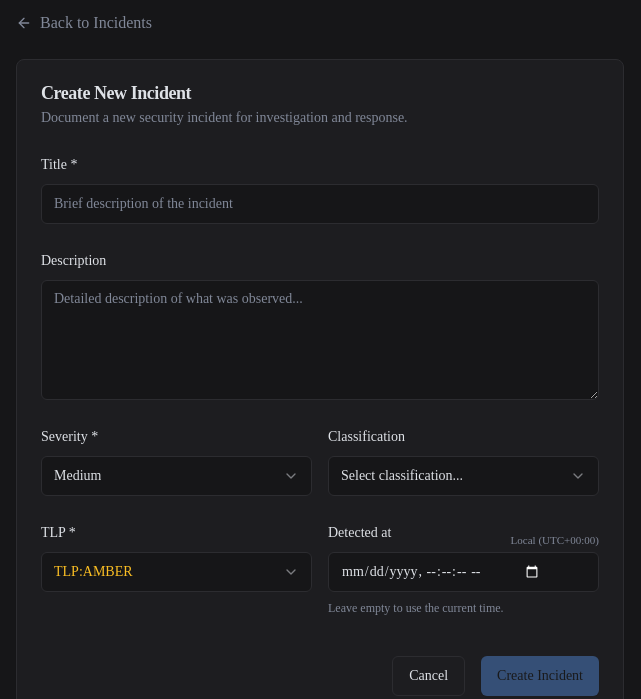
Test case: new incident form › rejects a detected time in the future
Type "Future incident" into the field labelled "Title *" at (320, 204), box [41,184,599,224]
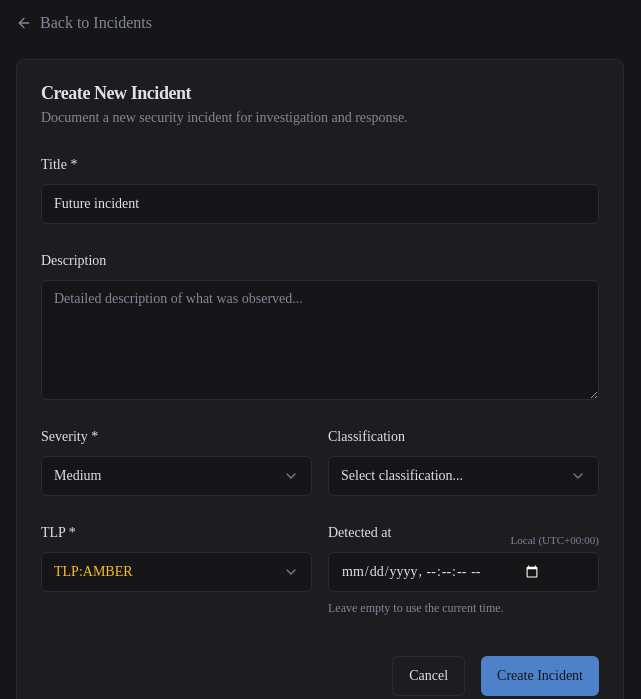
Type "2099-01-01T00:00:00" into the field labelled "Detected at" at (464, 572), box [328,552,599,592]
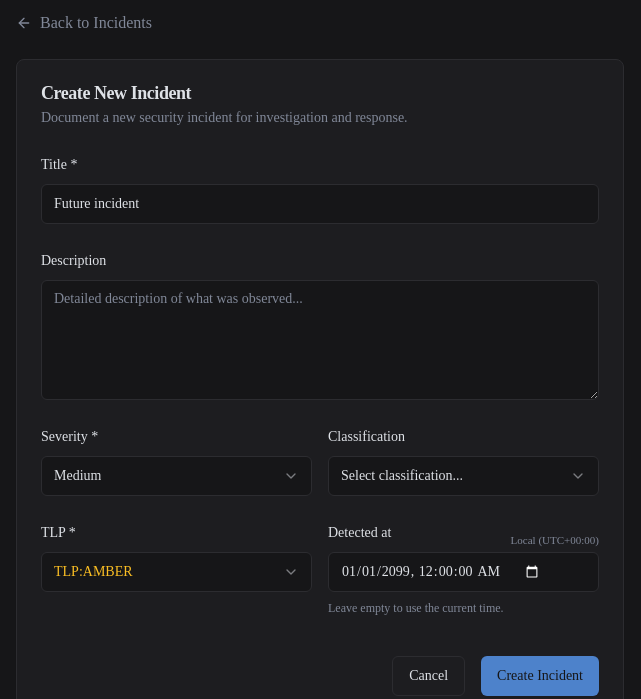
Click the button "Create Incident" at (540, 676), box [481,656,599,696]
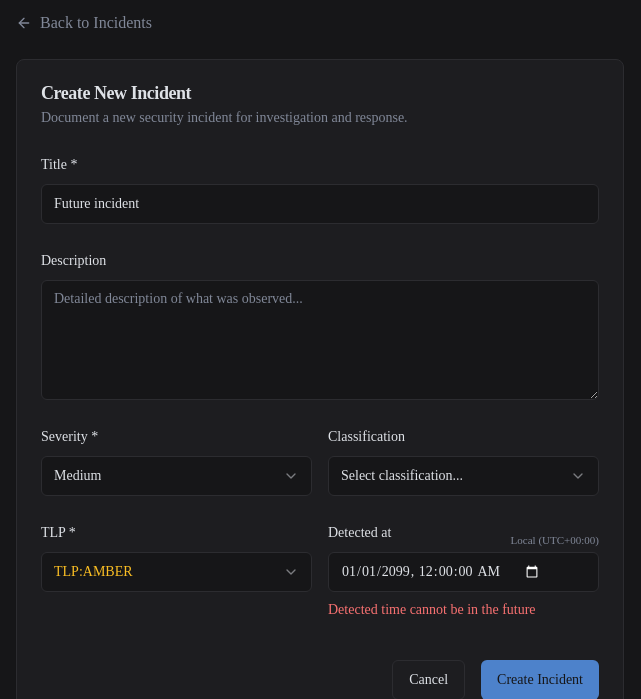
Now the text "Detected time cannot be in the future" is shown, box [328,602,536,617]
